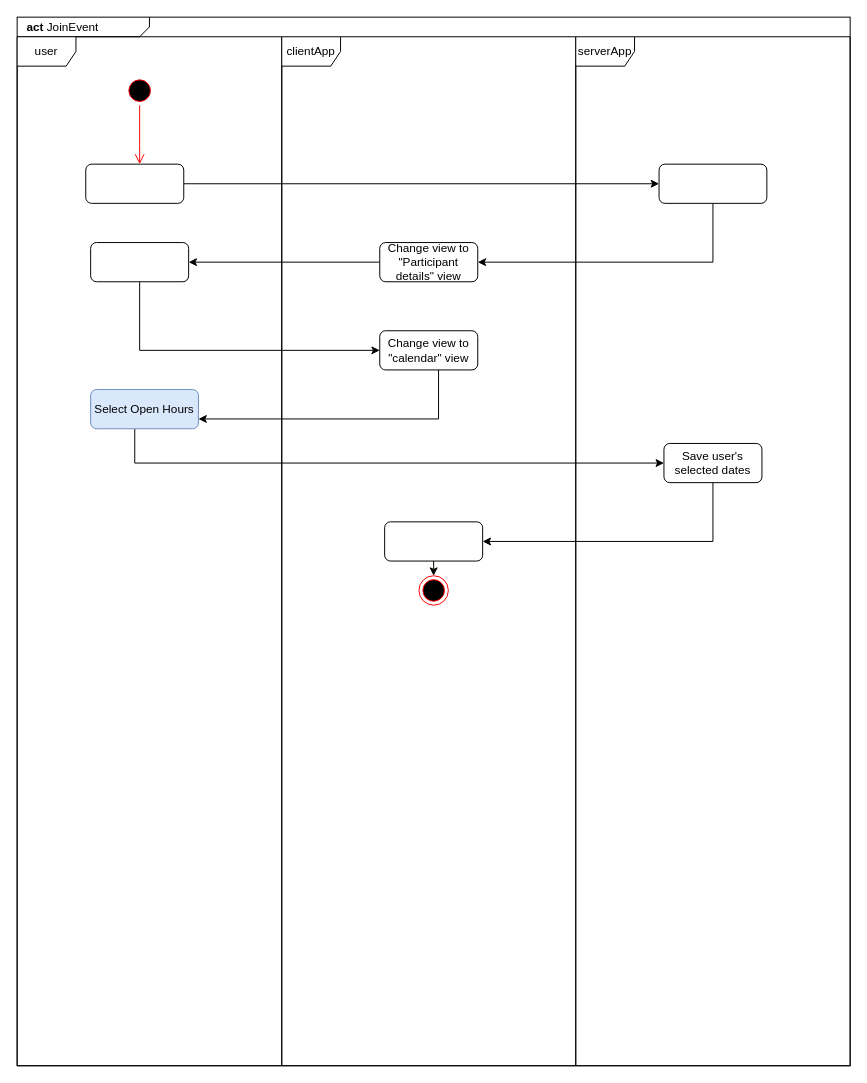
Some shapes in this 867 by 1083 pixel diagram are drawn without their labels. Each missing label, with the centre of its shape:
Enter event identifier: (134,183)
Enter participant name: (139,262)
Retrieve event information: (712,183)
Show success message: (433,541)
